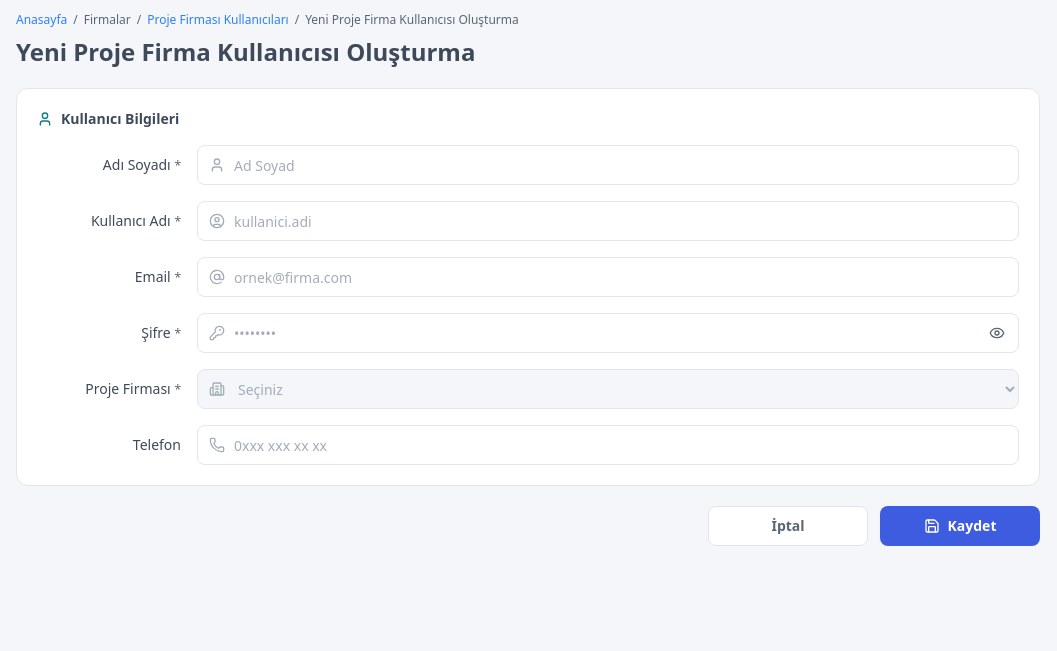
Test: şifre alanı (KK-17) › kuralı sağlamayan şifre reddedilir
The width and height of the screenshot is (1057, 651).
Type "zayifsifre" into the password field labelled "Şifre *" at coordinates (608, 333), box [197,313,1019,353]
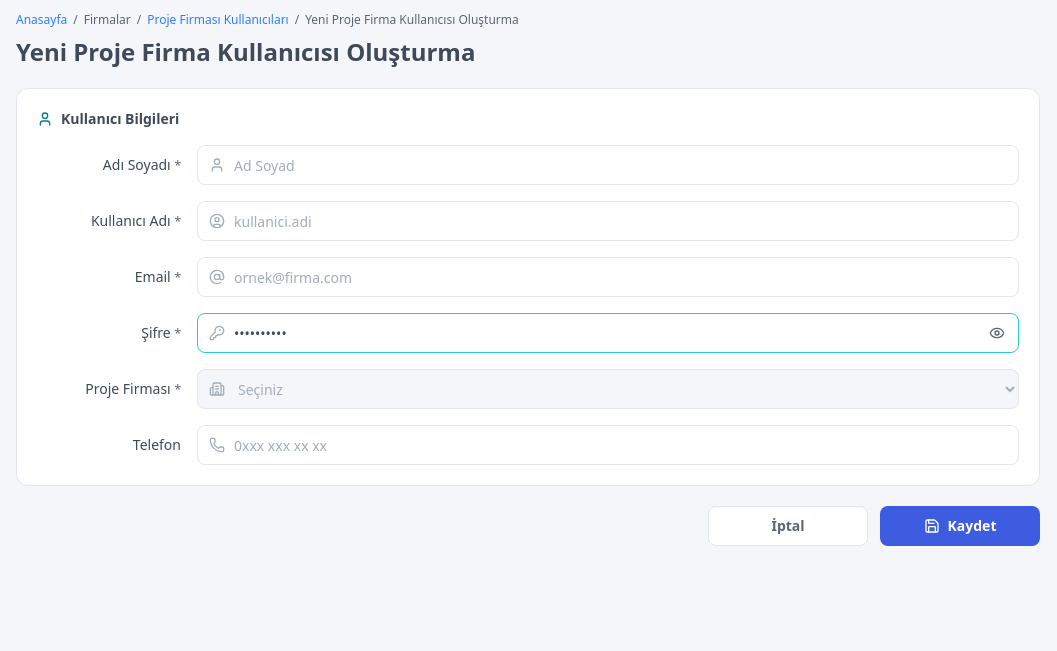
Click the button "Kaydet" at coordinates (960, 526), box [880,506,1040,546]
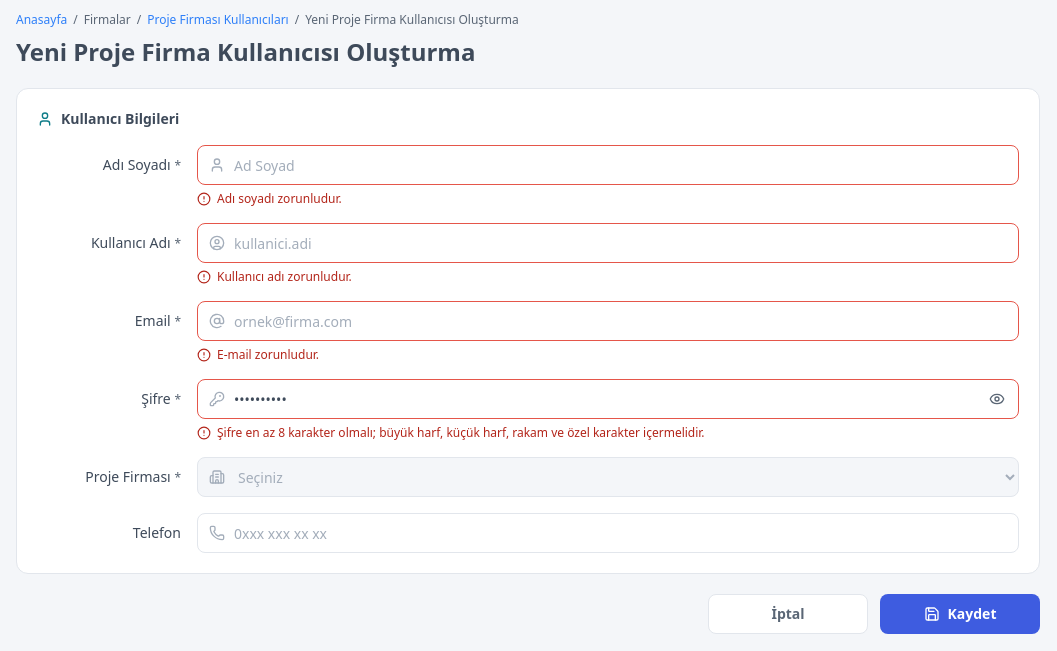
Expected: the text "en az 8 karakter olmalı" is shown, [217,424,705,441]
